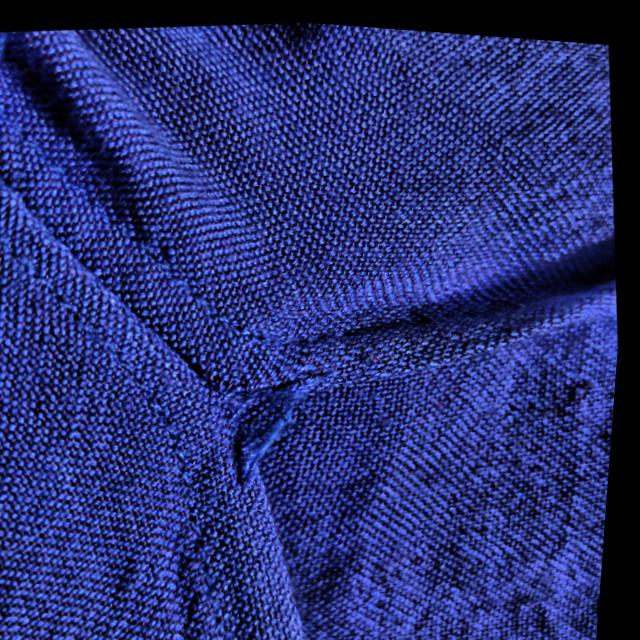Stitch: (185, 329, 383, 527)
